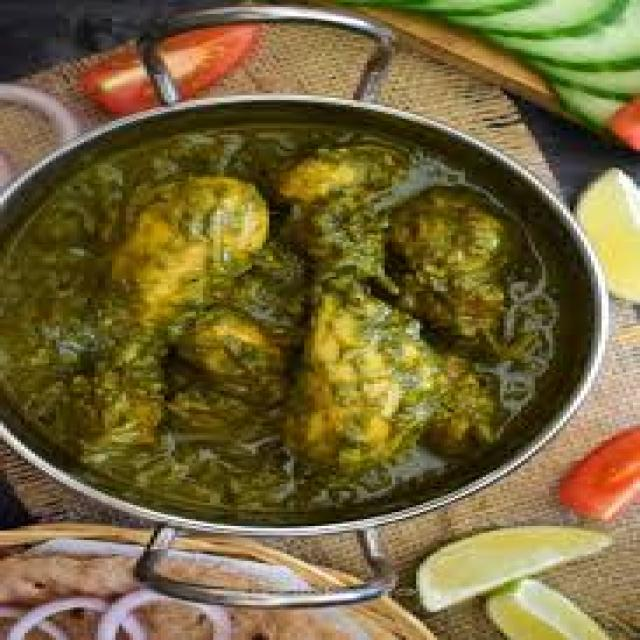Frango: (0, 126, 577, 521)
